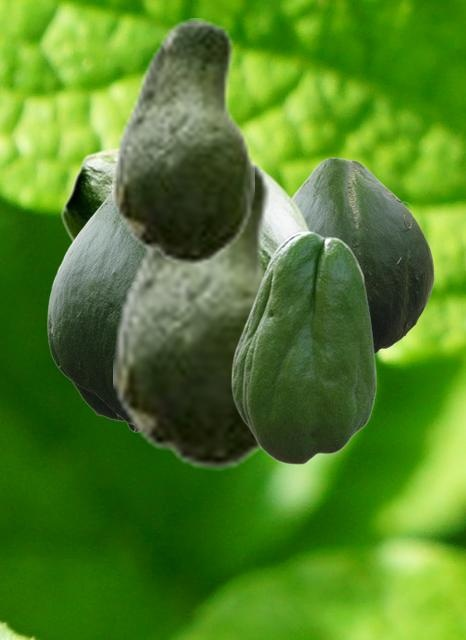sayote: (113, 152, 279, 470), (112, 18, 253, 265), (231, 230, 376, 464), (61, 145, 312, 265), (293, 157, 433, 353), (47, 191, 143, 432)
